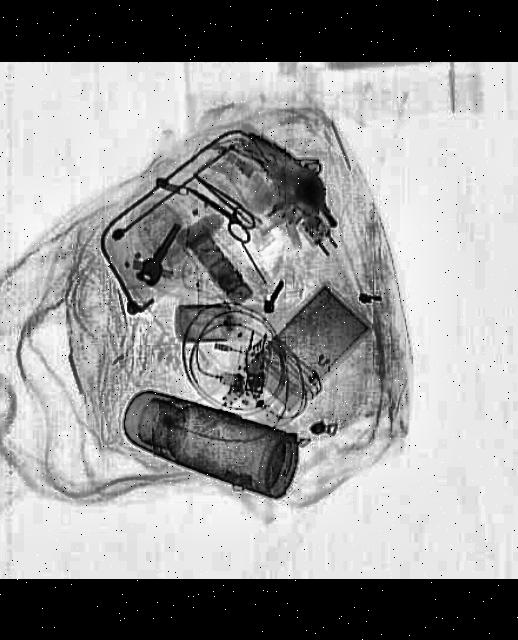Scissors: (176, 178, 262, 245)
